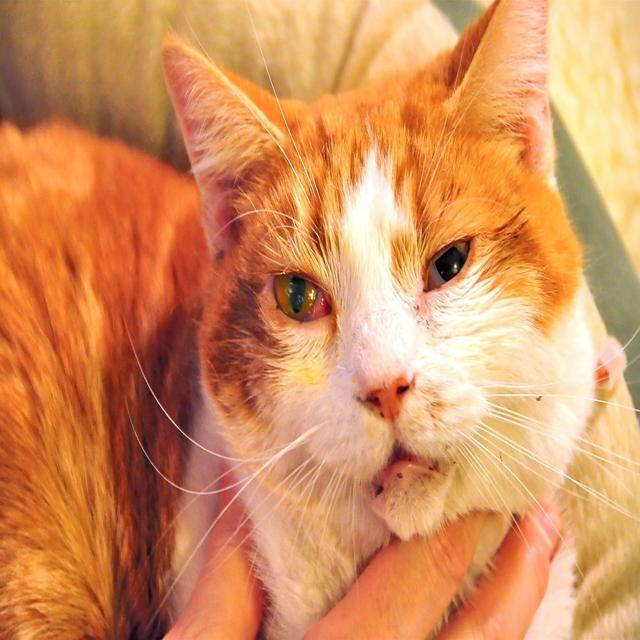eye_infection: (269, 267, 337, 330), (417, 236, 472, 296)
